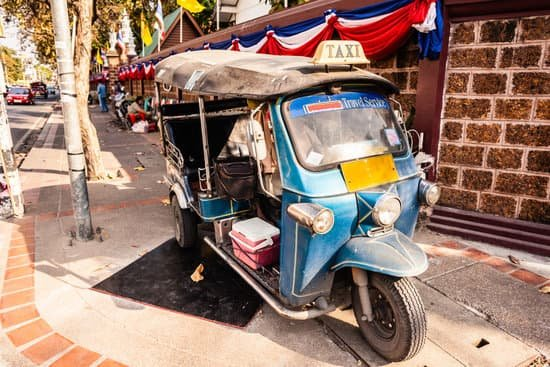threewheel: (153, 40, 441, 361)
